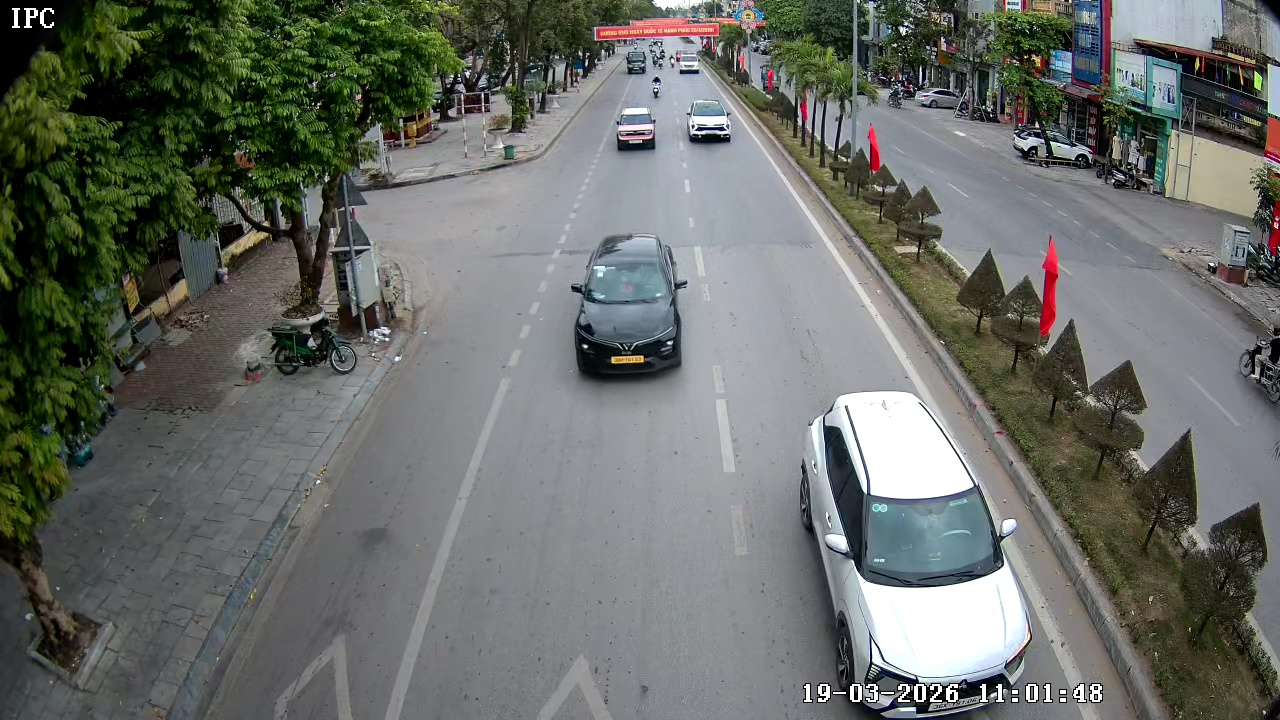car: (802, 388, 1031, 714), (571, 216, 688, 377), (685, 98, 733, 145), (613, 105, 658, 151), (678, 51, 703, 75)
motorbike: (259, 305, 362, 379), (650, 73, 664, 100)
truck: (624, 48, 648, 77)
